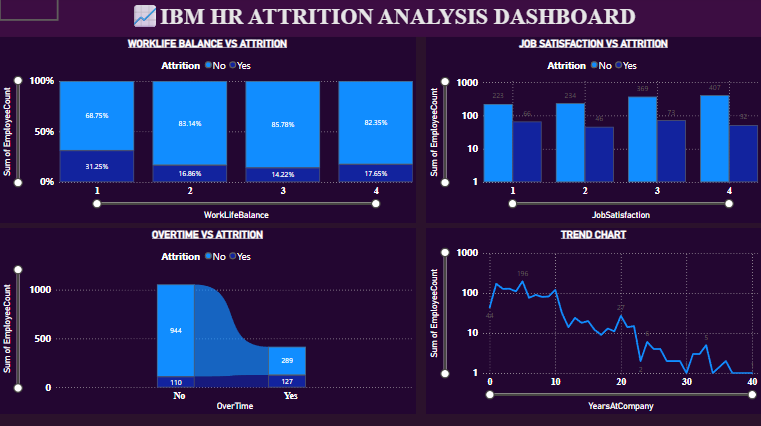

The page's visual inventory and layout, read from the dashboard file:
{"tool":"powerbi","page":{"name":"Page 2","canvas":[1280,720],"ordinal":1},"visuals":[{"type":"textbox","box":[0,0,1280,67.2],"z":0},{"type":"actionButton","box":[0,0,100,40],"z":1000},{"type":"hundredPercentStackedColumnChart","title":"WORKLIFE BALANCE VS ATTRITION","fields":{"Category":["IBM HR xls.WorkLifeBalance"],"Y":["Sum(IBM HR xls.EmployeeCount)"],"Series":["IBM HR xls.Attrition"]},"box":[0,67.2,700.5,310.8],"z":2000},{"type":"clusteredColumnChart","title":"JOB SATISFACTION VS ATTRITION","fields":{"Category":["IBM HR xls.JobSatisfaction"],"Y":["Sum(IBM HR xls.EmployeeCount)"],"Series":["IBM HR xls.Attrition"]},"box":[717.3,67.2,562.7,310.8],"z":3000},{"type":"lineChart","title":"TREND CHART","fields":{"Category":["IBM HR xls.YearsAtCompany"],"Y":["Sum(IBM HR xls.EmployeeCount)"]},"box":[717.3,388,562.7,310.8],"z":4000},{"type":"ribbonChart","title":"OVERTIME VS ATTRITION","fields":{"Category":["IBM HR xls.OverTime"],"Y":["Sum(IBM HR xls.EmployeeCount)"],"Series":["IBM HR xls.Attrition"]},"box":[0,388,700.5,310.8],"z":5000}]}

Visuals, with their boxes in screenshot pixels (x1, y1, x2, y2), scaled from the page's 1280x720 canvas onto the 761x426 screenshot:
textbox: [left=0, top=0, right=760, bottom=40]
actionButton: [left=0, top=0, right=59, bottom=24]
"WORKLIFE BALANCE VS ATTRITION" hundredPercentStackedColumnChart: [left=0, top=40, right=416, bottom=224]
"JOB SATISFACTION VS ATTRITION" clusteredColumnChart: [left=426, top=40, right=760, bottom=224]
"TREND CHART" lineChart: [left=426, top=230, right=760, bottom=413]
"OVERTIME VS ATTRITION" ribbonChart: [left=0, top=230, right=416, bottom=413]
